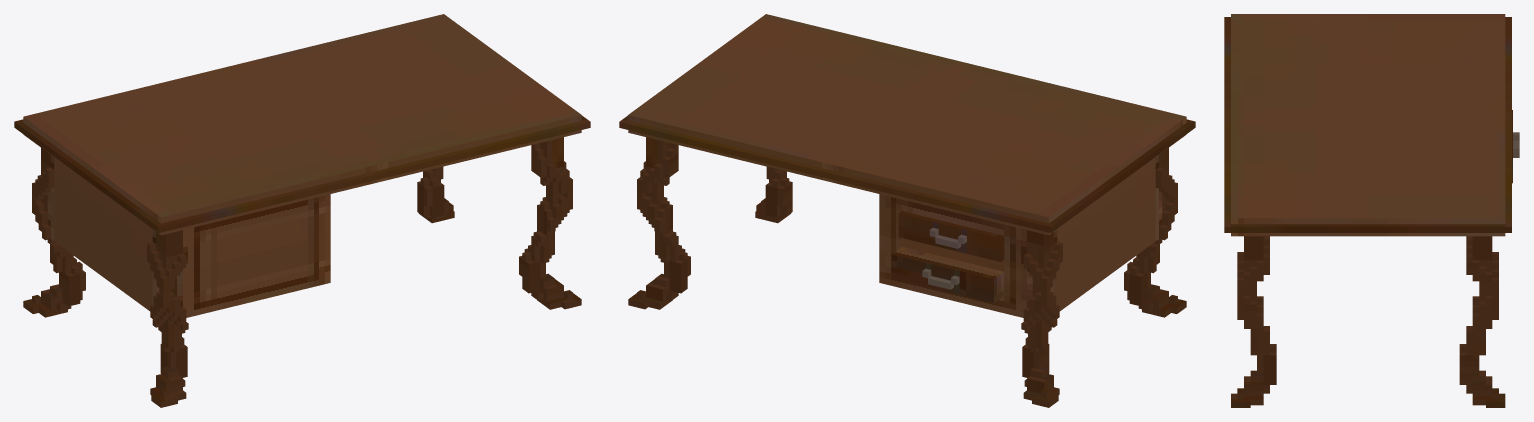
The model's file is desk.glb.
3 renders of one model, left to right at view 1: azimuth 30°, elevation 25°; view 2: azimuth 150°, elevation 25°; view 3: azimuth 270°, elevation 25°, orthographic.
Parts seen in each view (by area): view 1: Desk-Local; view 2: Desk-Local; view 3: Desk-Local.
Part boxes in pixels (x1,y1,x2,y2): Desk-Local: [14, 14, 590, 407]; Desk-Local: [619, 14, 1195, 407]; Desk-Local: [1224, 14, 1519, 407].
Bounding box in the file's own units: 1.68 × 0.7085 × 1.
Materials: 3 (3 with a texture image).
